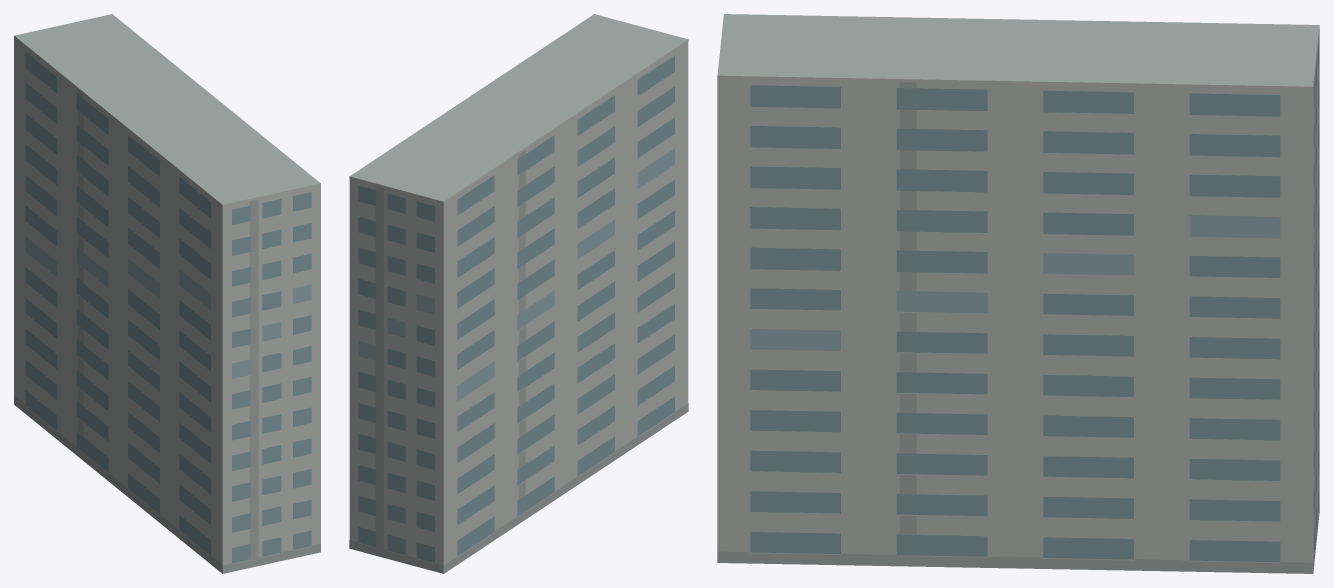
The model's file is residential-26cb04c4-8c92-4cc7-a10a-a3136eedee99.glb.
3 renders of one model, left to right at view 1: azimuth 30°, elevation 25°; view 2: azimuth 150°, elevation 25°; view 3: azimuth 270°, elevation 25°, orthographic. The views are drawn at different scales.
Parts seen in each view (by area): view 1: residential-26cb04c4-8c92-4cc7-a10a-a3136eedee99.tmp; view 2: residential-26cb04c4-8c92-4cc7-a10a-a3136eedee99.tmp; view 3: residential-26cb04c4-8c92-4cc7-a10a-a3136eedee99.tmp.
Boxes of the visible parts, x1,y1,x2,y2 form: residential-26cb04c4-8c92-4cc7-a10a-a3136eedee99.tmp: (14,14,320,573); residential-26cb04c4-8c92-4cc7-a10a-a3136eedee99.tmp: (349,14,688,573); residential-26cb04c4-8c92-4cc7-a10a-a3136eedee99.tmp: (717,14,1319,573).
Size of the model in its own units: 12.17 by 38 by 42.57.
